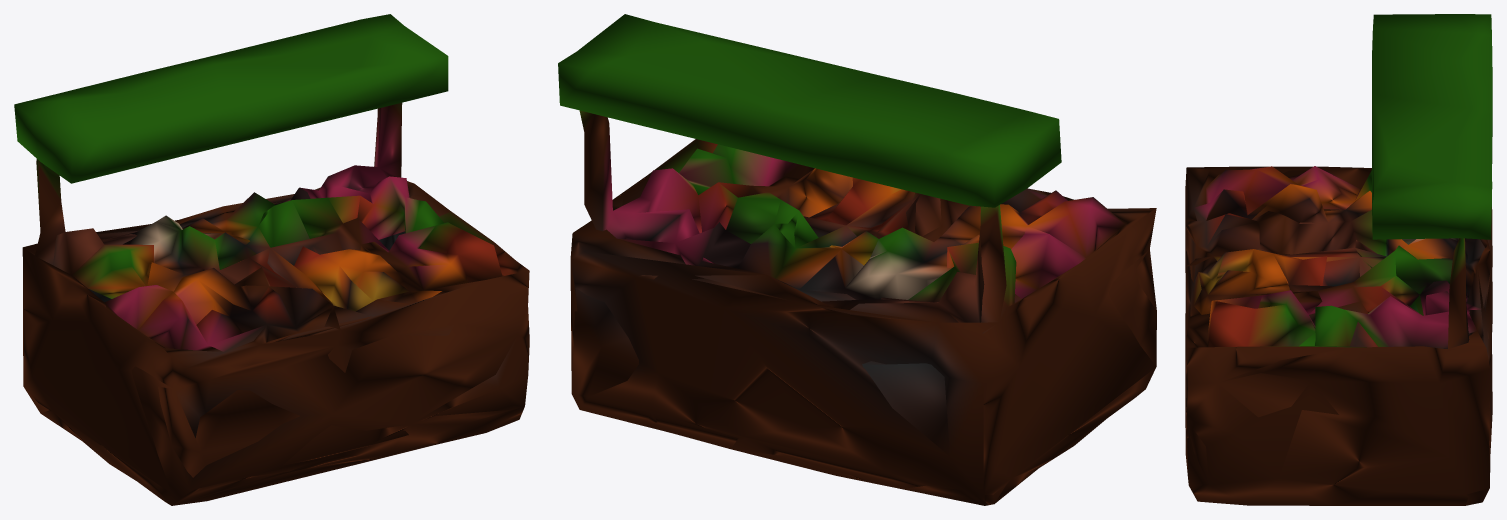
Rendered from gen3d-fruit-stand-lod0.glb.
3 renders of one model, left to right at view 1: azimuth 30°, elevation 25°; view 2: azimuth 150°, elevation 25°; view 3: azimuth 270°, elevation 25°, orthographic. The views are drawn at different scales.
Visible parts, largest first — view 1: part_0; view 2: part_0; view 3: part_0.
Boxes of the visible parts, x1,y1,x2,y2 form: part_0: (14, 14, 529, 505); part_0: (558, 14, 1156, 505); part_0: (1185, 14, 1492, 505).
Bounding box in the file's own units: 1.3 × 1 × 0.8945.
